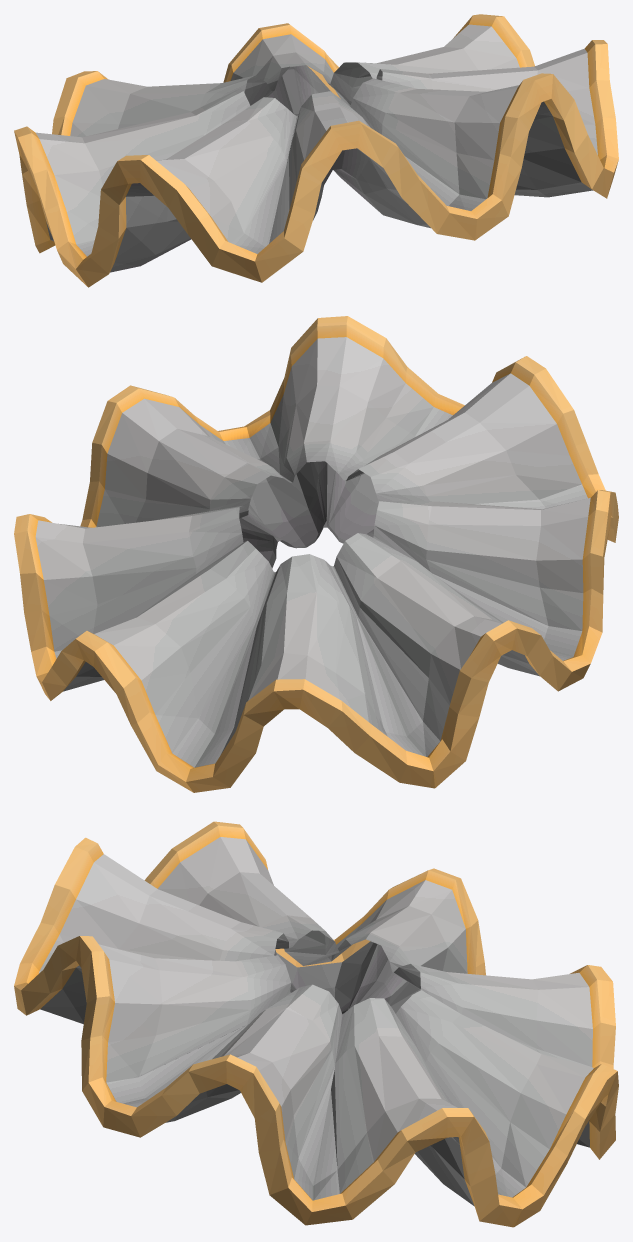
File: CharSkyKid_Neck_AP30RuffledCollar.glb
The picture shows the model from 3 angles, top to bottom: view 1: azimuth 30°, elevation 25°; view 2: azimuth 150°, elevation 25°; view 3: azimuth 270°, elevation 25°; orthographic projection.
Parts seen in each view (by area): view 1: CharSkyKid_Neck_AP30RuffledCollar; view 2: CharSkyKid_Neck_AP30RuffledCollar; view 3: CharSkyKid_Neck_AP30RuffledCollar.
Boxes of the visible parts, <box> form: CharSkyKid_Neck_AP30RuffledCollar: <box>14,14,618,287</box>; CharSkyKid_Neck_AP30RuffledCollar: <box>14,316,618,792</box>; CharSkyKid_Neck_AP30RuffledCollar: <box>14,821,618,1227</box>.
Size of the model in its own units: 4.01 by 1.99 by 4.02.
Materials: 1 (1 with a texture image).
